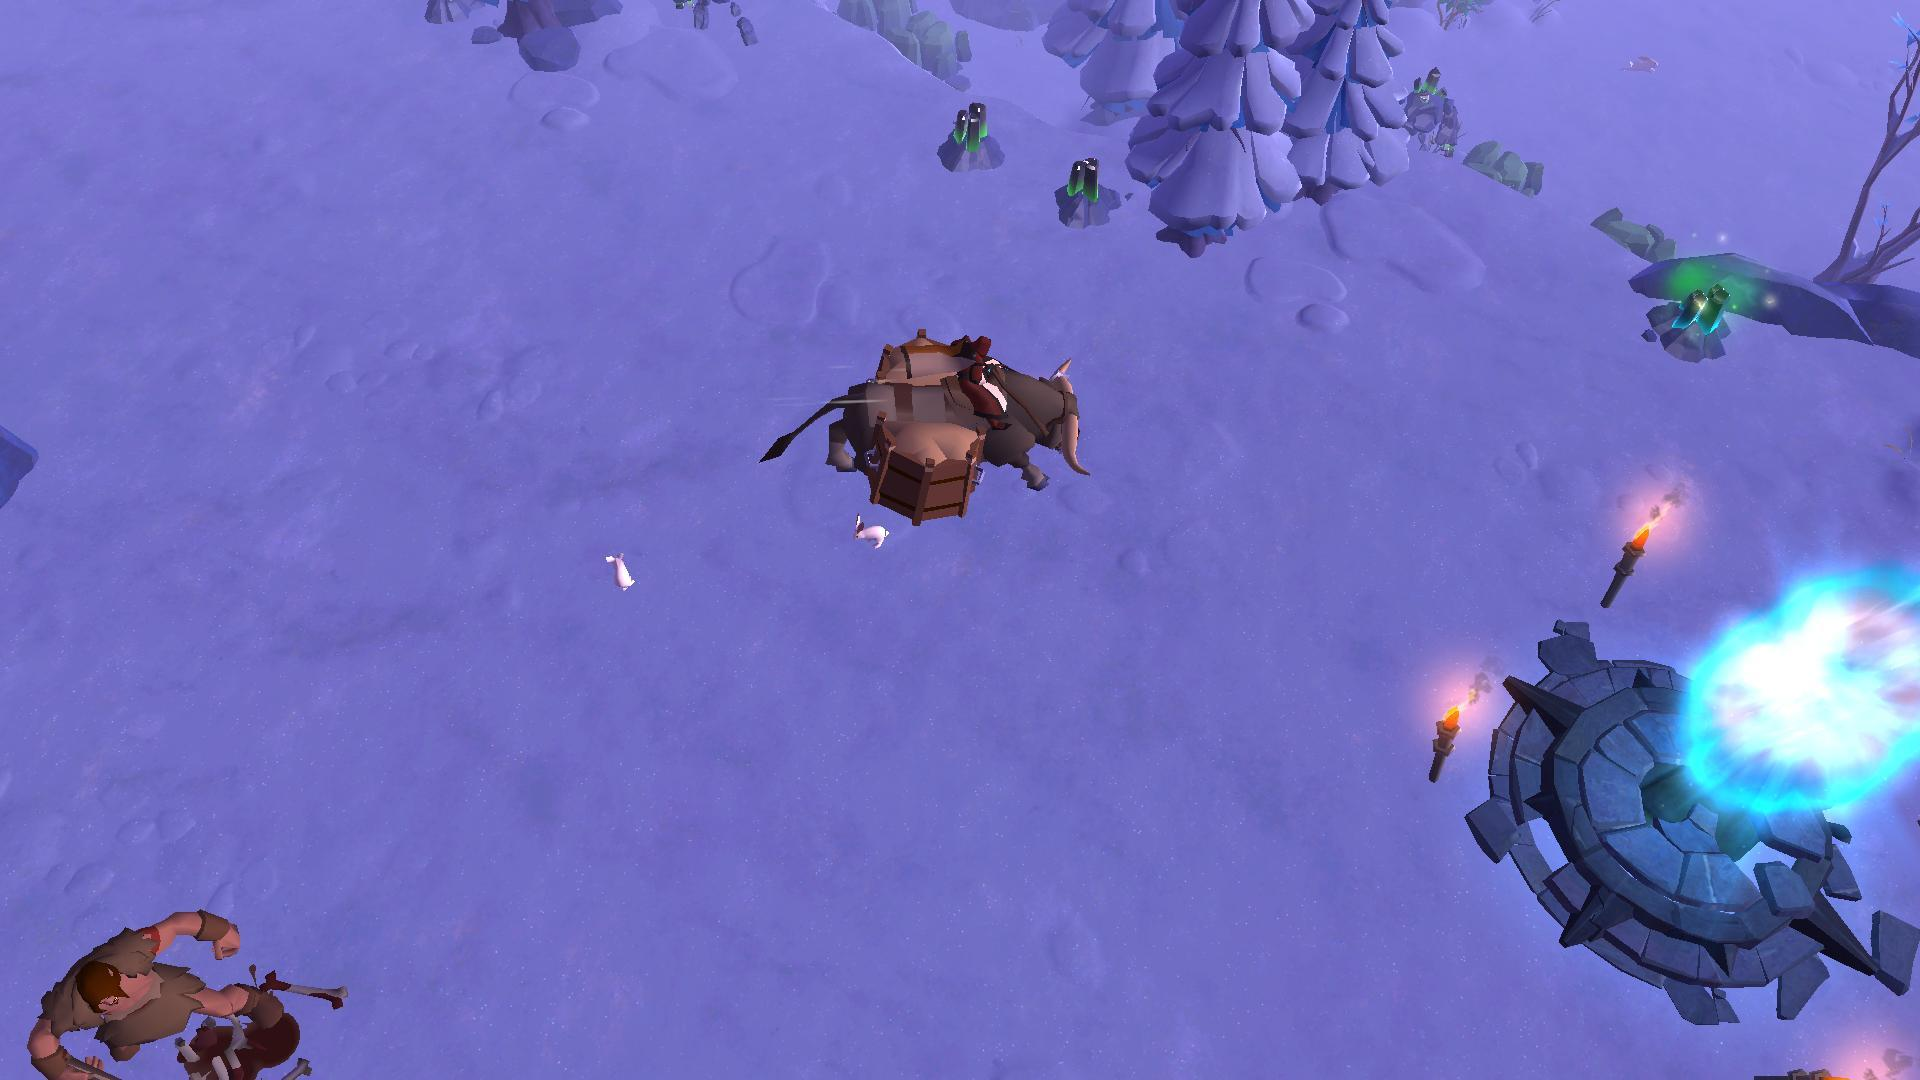enemy_factionKeeper: (24, 895, 294, 1080)
ore_t3: (935, 84, 1005, 173), (1048, 145, 1112, 218)
ore_t4: (1648, 272, 1733, 364)
rock_t3: (886, 4, 981, 94), (1577, 194, 1681, 264), (1457, 124, 1547, 202)
